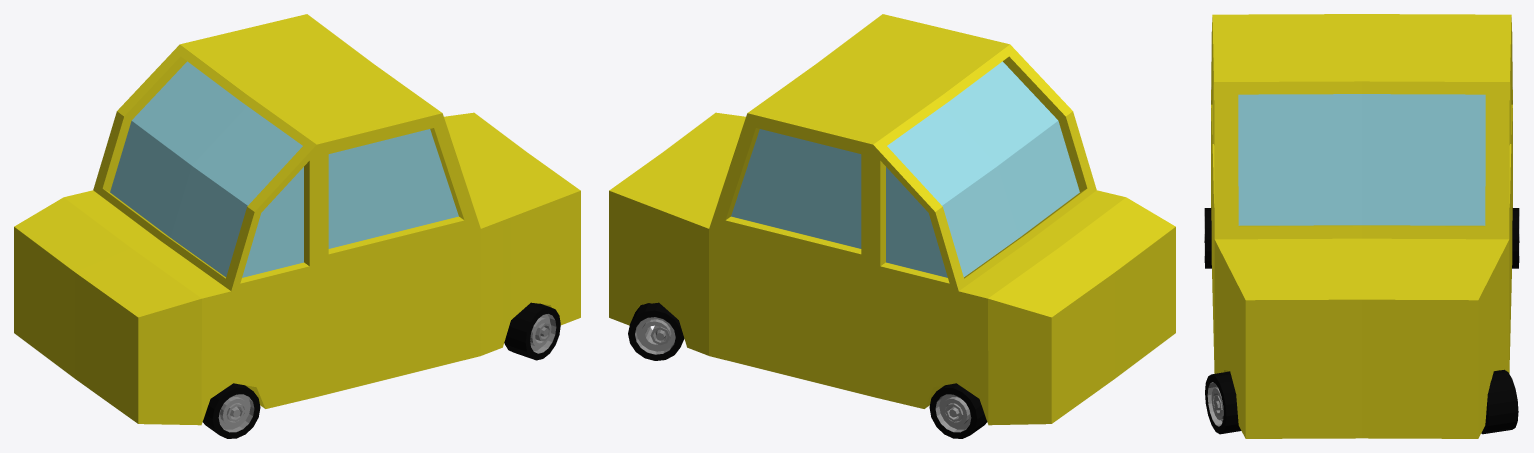
Rendered from voiture 1.fbx.
3 views of the same model, side by side, from view 1: azimuth 30°, elevation 25°; view 2: azimuth 150°, elevation 25°; view 3: azimuth 270°, elevation 25° (orthographic). The views are drawn at different scales.
Parts seen in each view (by area): view 1: Voiture; view 2: Voiture; view 3: Voiture.
Boxes of the visible parts, x1,y1,x2,y2 form: Voiture: (14, 14, 580, 438); Voiture: (609, 14, 1175, 438); Voiture: (1204, 14, 1519, 438).
Bounding box in the file's own units: 210 × 120 × 116.
